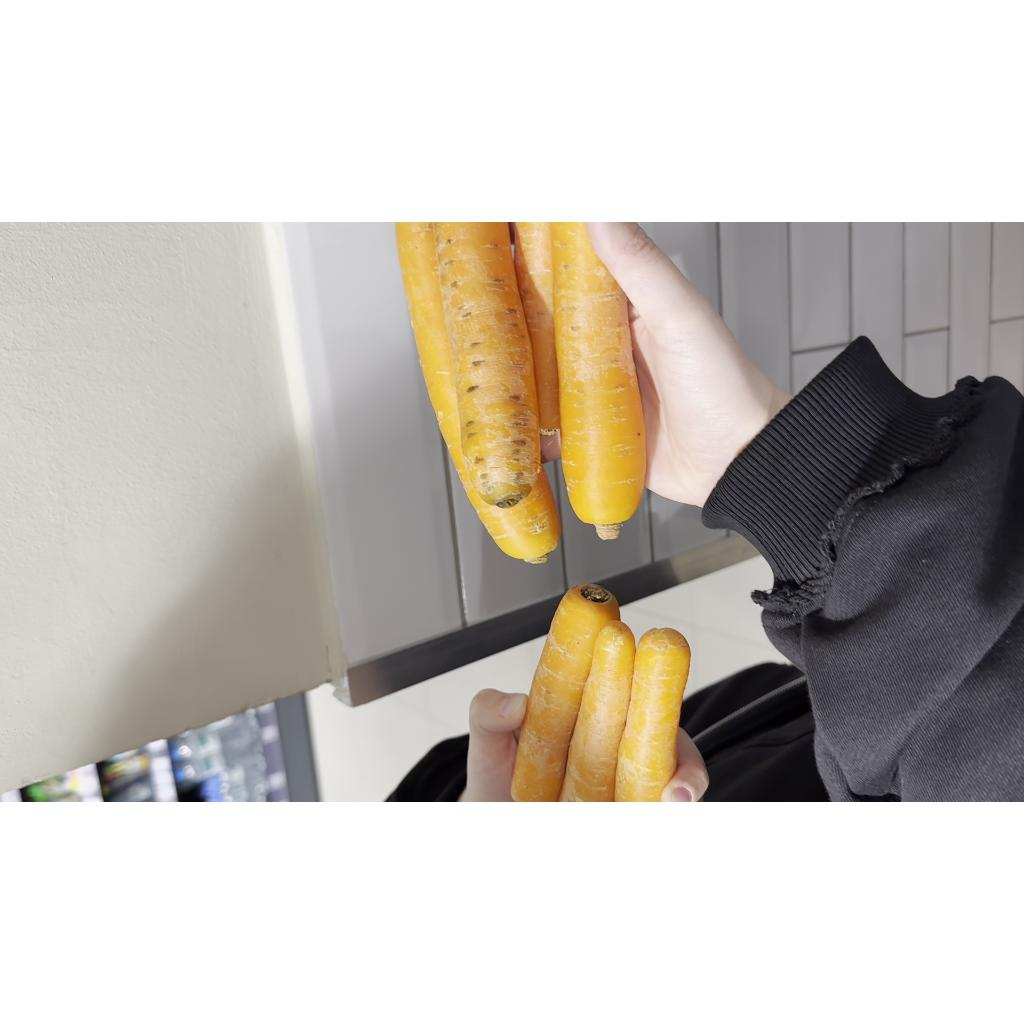carrot: (396, 222, 560, 564), (434, 222, 540, 508), (552, 222, 646, 538), (510, 584, 620, 802), (558, 620, 636, 802), (614, 628, 690, 802), (514, 222, 560, 435)
